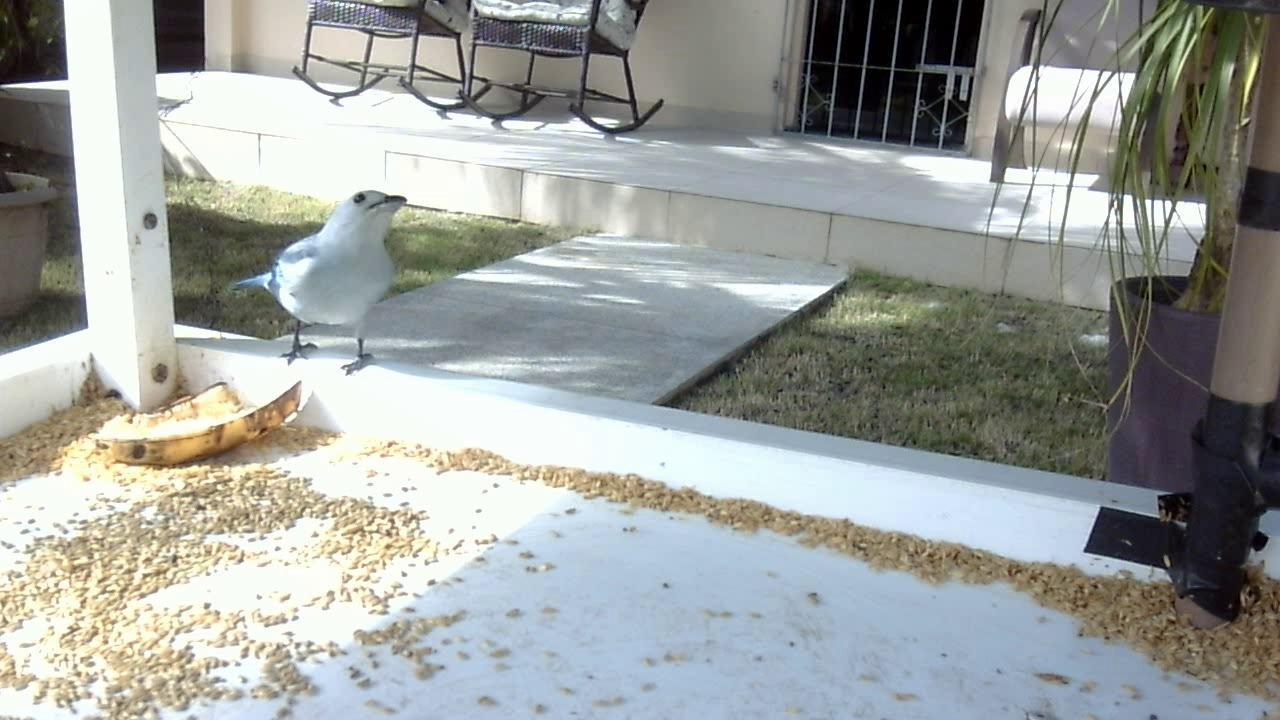sanhaco_da_amazonia: (225, 184, 420, 376)
